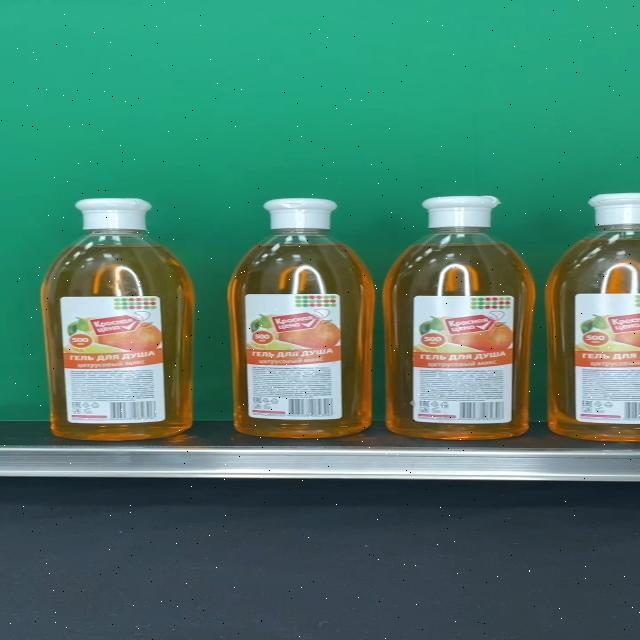Bottle: (382, 195, 537, 440), (43, 197, 194, 441), (228, 197, 375, 439)
Cap: (422, 196, 499, 230), (74, 197, 153, 230), (262, 198, 337, 230)
